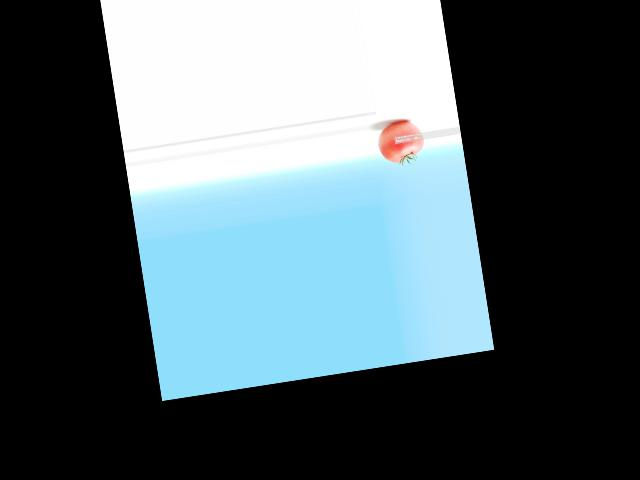tomato: (376, 119, 427, 165)
